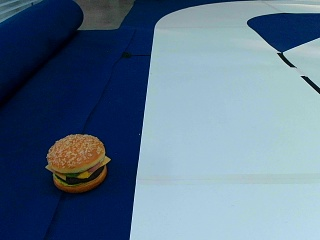burger: (44, 131, 110, 192)
